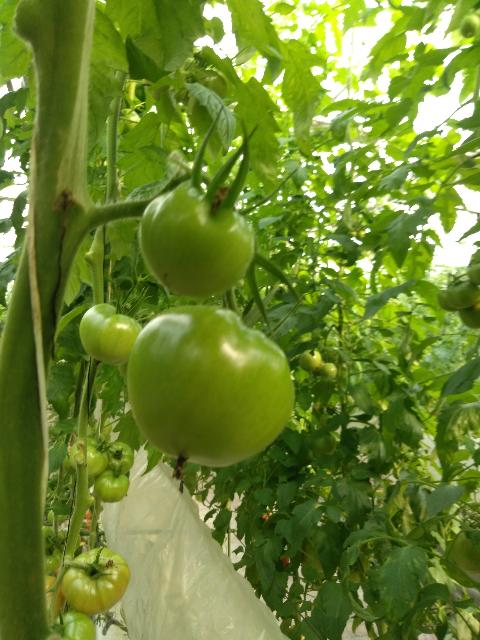b_green: (126, 305, 295, 468), (138, 186, 255, 299), (80, 303, 142, 366), (69, 438, 109, 478), (51, 611, 96, 640), (94, 470, 130, 504), (104, 442, 135, 475), (446, 278, 480, 308), (54, 526, 81, 555), (45, 545, 63, 574), (300, 350, 321, 372), (319, 363, 337, 381), (42, 526, 55, 549)
b_half_ripened: (63, 547, 131, 615), (46, 574, 66, 625)
